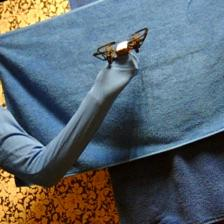drone: (93, 27, 148, 67)
